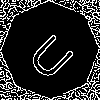U: (25, 25, 83, 83)
